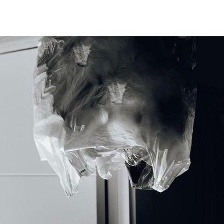plastic_bag: (26, 33, 210, 206)
